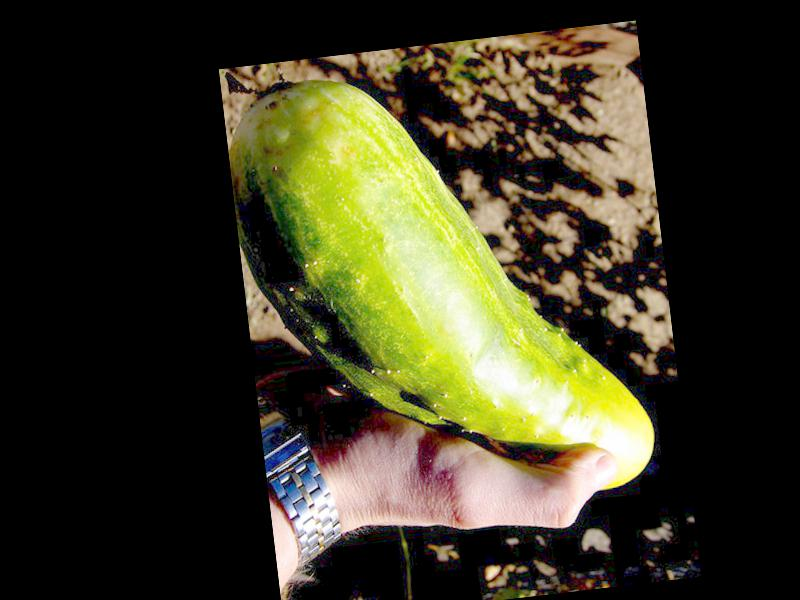Cucumber: (220, 43, 658, 528)
